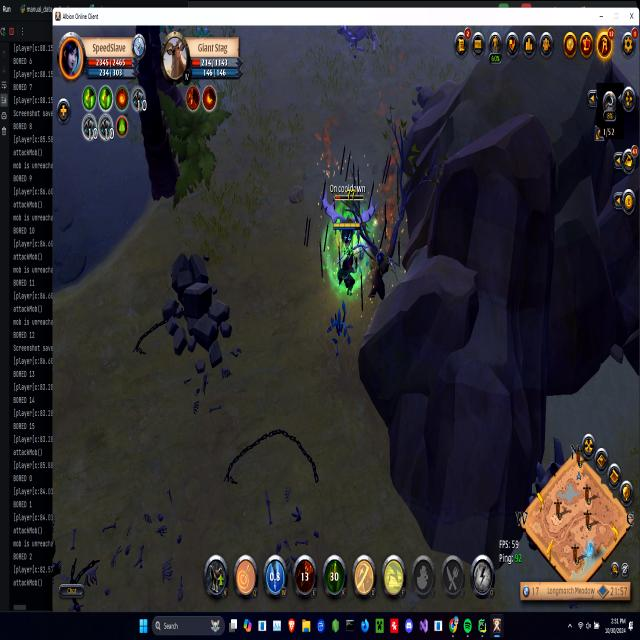mob: (336, 25, 382, 59)
ore: (321, 182, 373, 242)
red: (331, 218, 365, 294)
